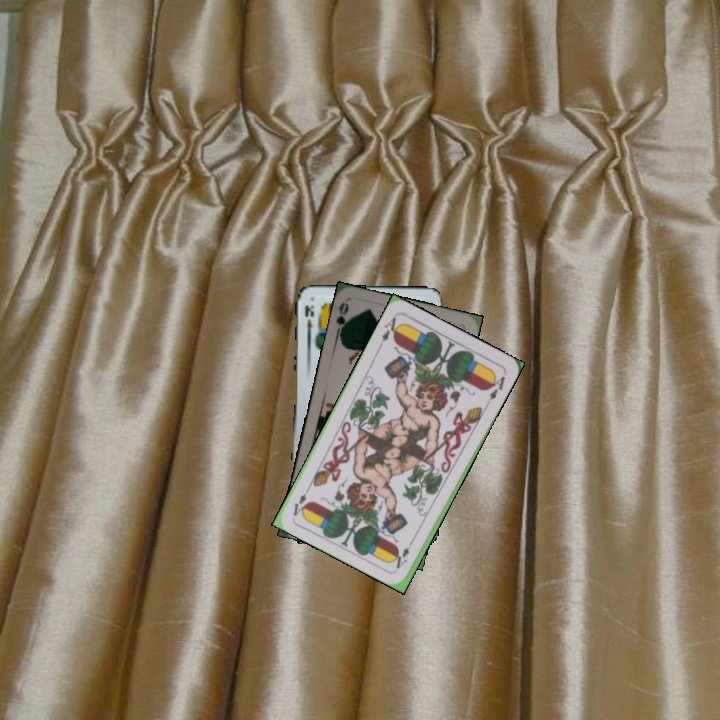EA: (392, 534, 417, 571), (378, 312, 403, 344)
EK: (301, 301, 316, 340)
GO: (332, 298, 353, 340)
